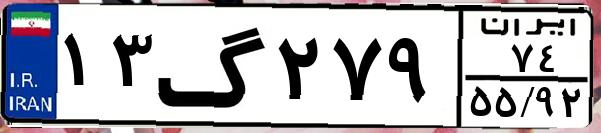1: (57, 26, 110, 100)
2: (270, 28, 330, 110), (560, 70, 590, 125)
3: (110, 28, 156, 98)
4: (537, 27, 568, 80)
5: (470, 70, 495, 125), (495, 70, 520, 125)
7: (330, 28, 385, 110), (508, 27, 537, 80)
9: (385, 28, 445, 110), (535, 70, 560, 125)
گ: (156, 12, 270, 120)
